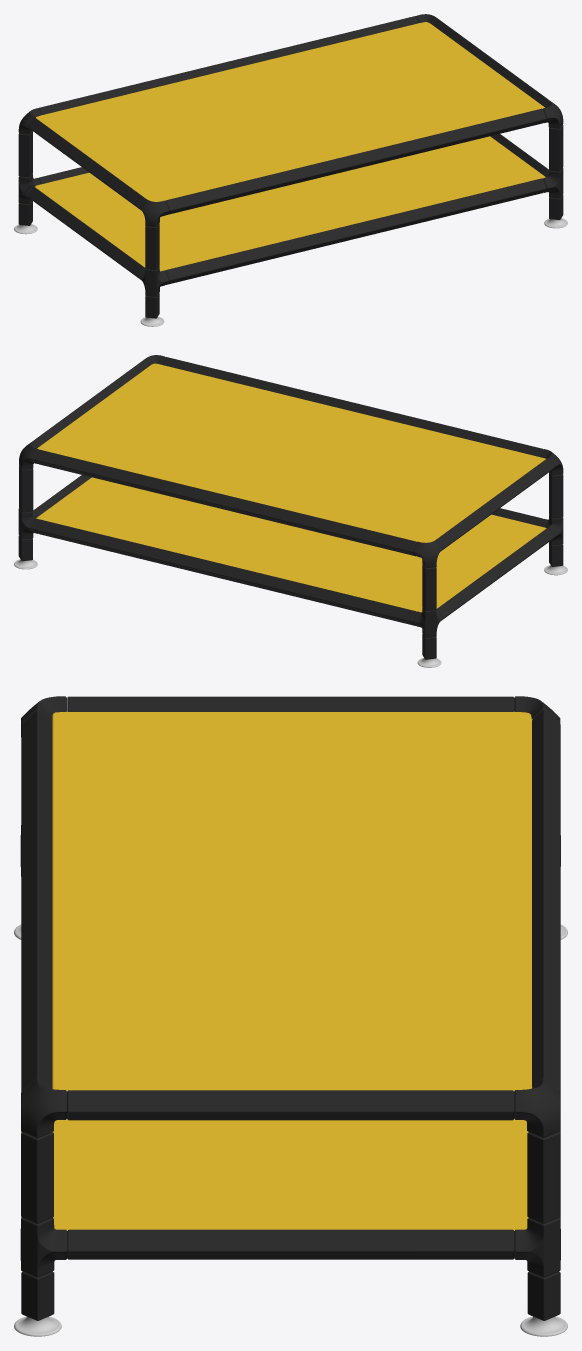
3 renders of one model, top to bottom at view 1: azimuth 30°, elevation 25°; view 2: azimuth 150°, elevation 25°; view 3: azimuth 270°, elevation 25°, orthographic. The views are drawn at different scales.
Parts seen in each view (by area): view 1: 729x374x79; view 2: 729x374x79; view 3: 729x374x79.
Part boxes in pixels (<box>): 729x374x79: <box>14,14,567,326</box>; 729x374x79: <box>14,355,567,667</box>; 729x374x79: <box>14,696,567,1336</box>.
Size of the model in its own units: 0.8189 by 0.2183 by 0.4632.
